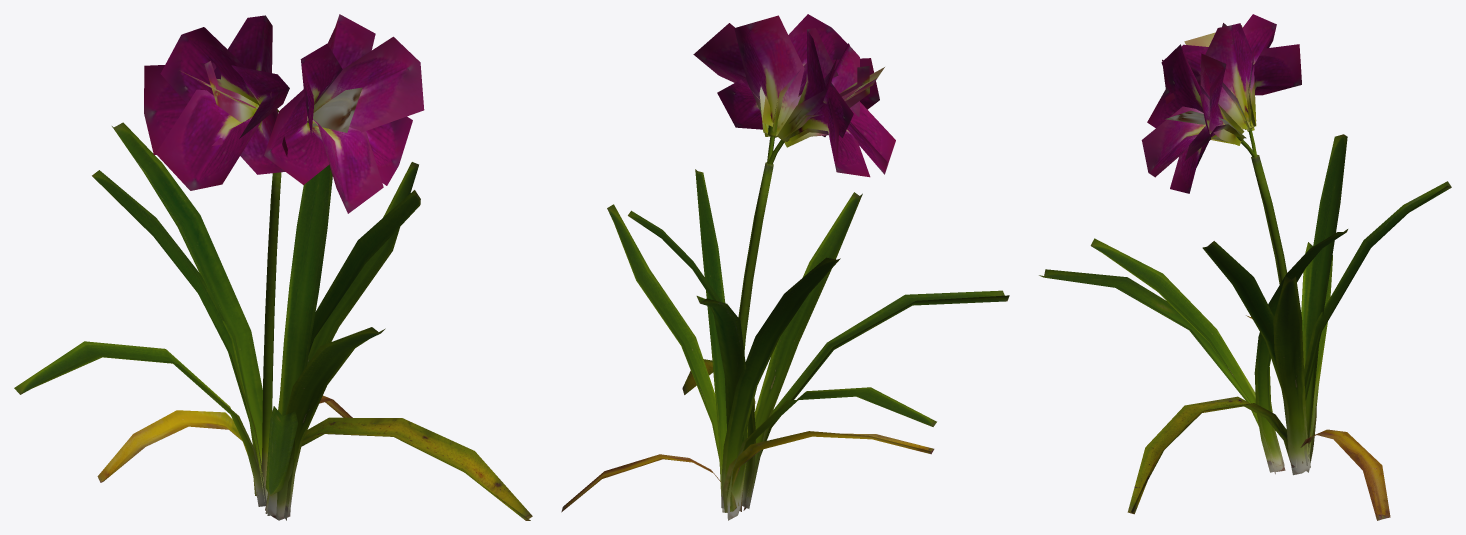
File: Amaryllis_OG_normal_magenta.glb
The picture shows the model from 3 angles, left to right: view 1: azimuth 30°, elevation 25°; view 2: azimuth 150°, elevation 25°; view 3: azimuth 270°, elevation 25°; orthographic projection. The views are drawn at different scales.
Parts seen in each view (by area): view 1: og; view 2: og; view 3: og.
Boxes of the visible parts, x1=… form: og: x1=14, y1=14, x2=532, y2=520; og: x1=561, y1=14, x2=1009, y2=520; og: x1=1039, y1=14, x2=1451, y2=520.
Bounding box in the file's own units: 1.36 × 1.74 × 1.51.
1 material, 1 textured.
